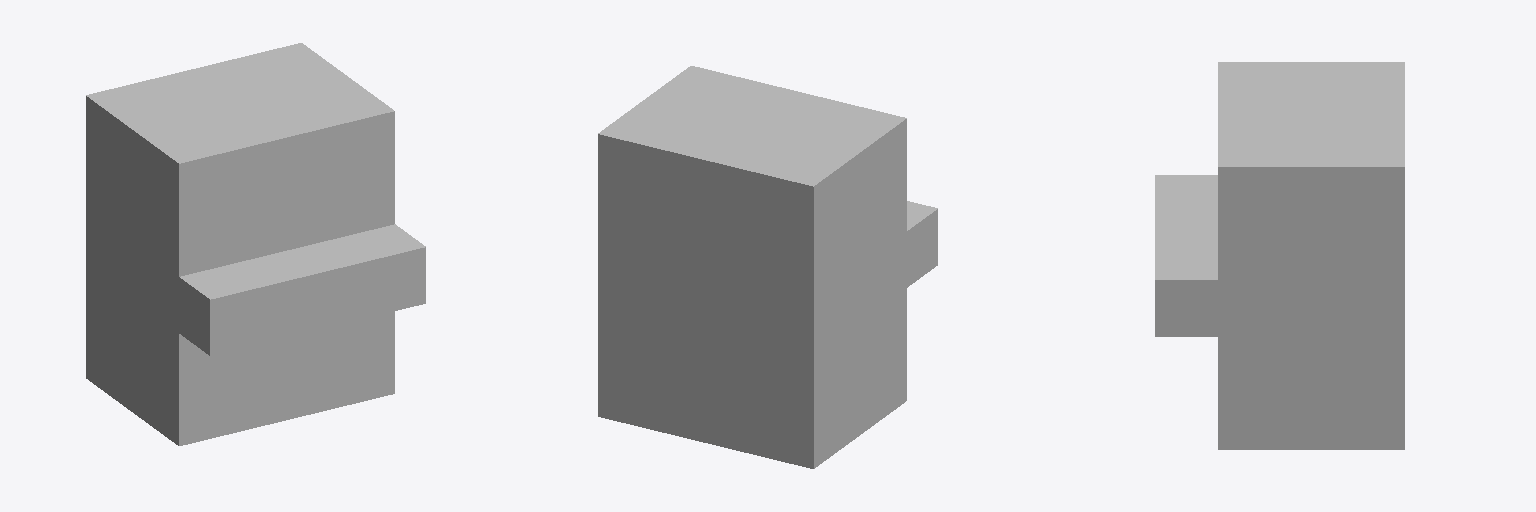
File: E2-Exp-p05.obj
The picture shows the model from 3 angles: view 1: azimuth 30°, elevation 25°; view 2: azimuth 150°, elevation 25°; view 3: azimuth 270°, elevation 25°; orthographic projection.
Visible parts, largest first — view 1: mesh5, mesh0, mesh1, mesh4, mesh9, mesh7; view 2: mesh2, mesh5, mesh1; view 3: mesh6, mesh1, mesh7.
Boxes of the visible parts, box(x1,y1,x2,y2) form: mesh5: box(86, 96, 209, 445); mesh0: box(179, 111, 394, 276); mesh1: box(86, 43, 393, 163); mesh4: box(179, 311, 394, 445); mesh9: box(210, 247, 425, 355); mesh7: box(180, 224, 425, 299); mesh2: box(598, 134, 813, 468); mesh5: box(814, 119, 937, 468); mesh1: box(598, 66, 906, 186); mesh6: box(1155, 167, 1404, 449); mesh1: box(1218, 62, 1404, 166); mesh7: box(1155, 175, 1217, 279).
Size of the model in its own units: 0.08 by 0.1 by 0.08.